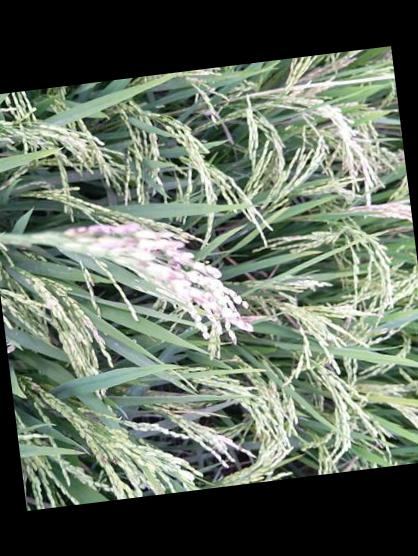Panicle Blight: (68, 223, 138, 233), (167, 260, 183, 280), (238, 314, 255, 330), (164, 239, 184, 251), (81, 410, 101, 422), (192, 293, 215, 302), (110, 451, 125, 463), (133, 258, 151, 267), (124, 236, 138, 246), (99, 451, 108, 464), (187, 259, 194, 264)
